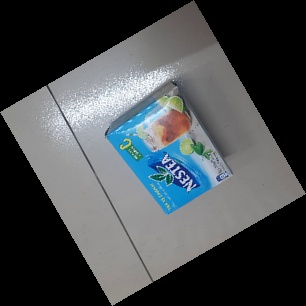Nestea: (105, 80, 233, 214)
